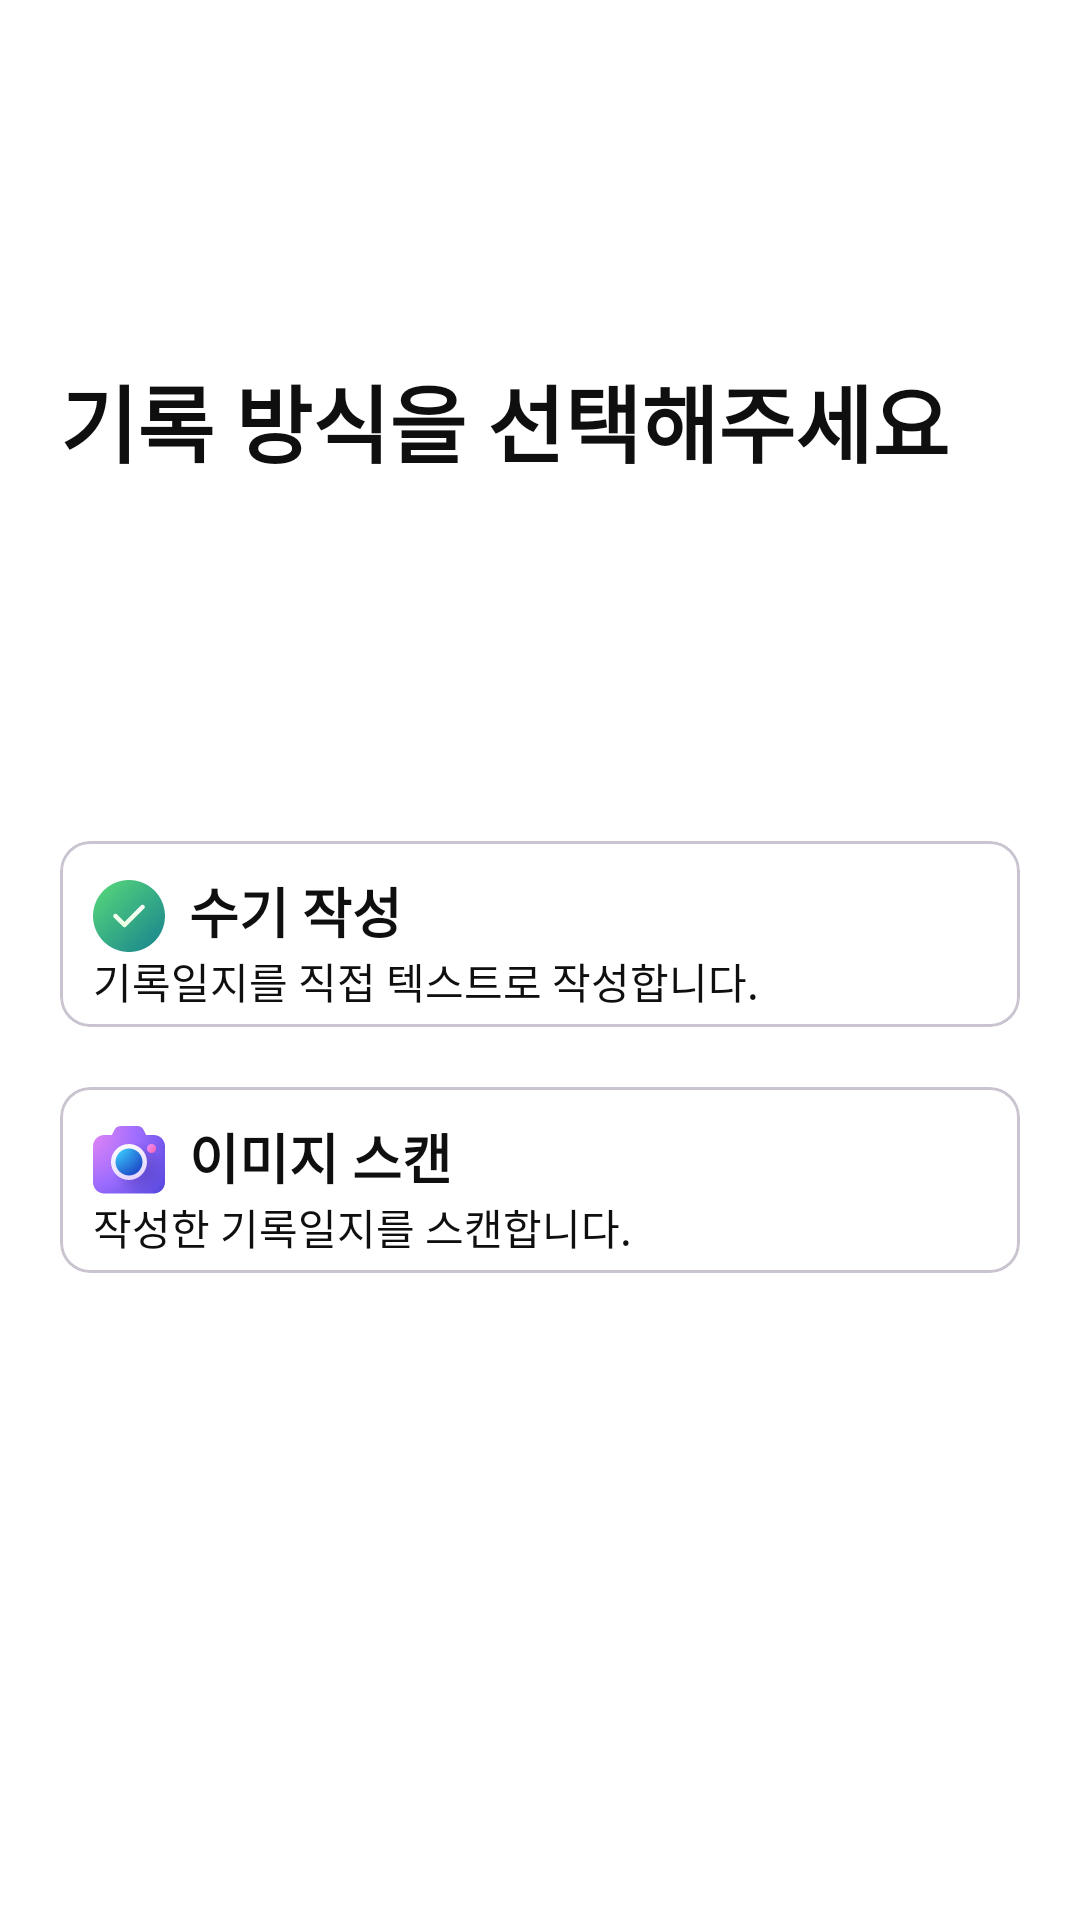

Screen size 1080x1920. Icon name, then its box in pixels as (x1, y1, x2, y2):
camera scan sv: (93, 1126, 165, 1194)
